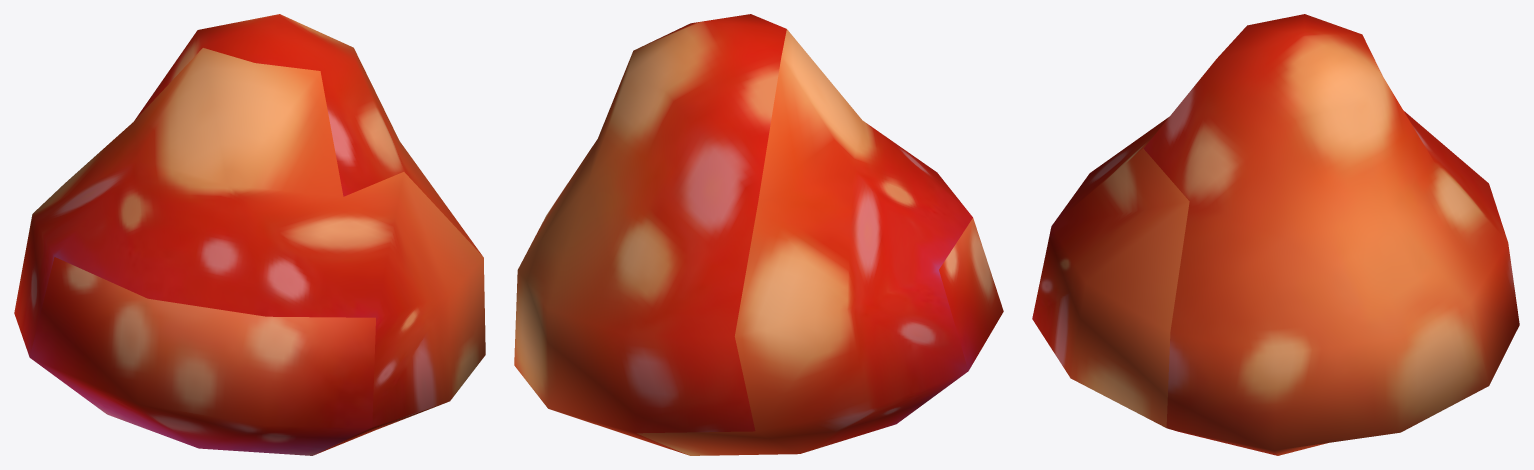
File: Red_Mushroom_02.obj
The picture shows the model from 3 angles, left to right: view 1: azimuth 30°, elevation 25°; view 2: azimuth 150°, elevation 25°; view 3: azimuth 270°, elevation 25°; orthographic projection. The views are drawn at different scales.
Parts seen in each view (by area): view 1: Red_Mushroom_2; view 2: Red_Mushroom_2; view 3: Red_Mushroom_2.
Part boxes in pixels (x1,y1,x2,y2): Red_Mushroom_2: (14,14,485,455); Red_Mushroom_2: (514,14,1003,455); Red_Mushroom_2: (1032,14,1519,455).
Bounding box in the file's own units: 8 × 6.86 × 7.94.
